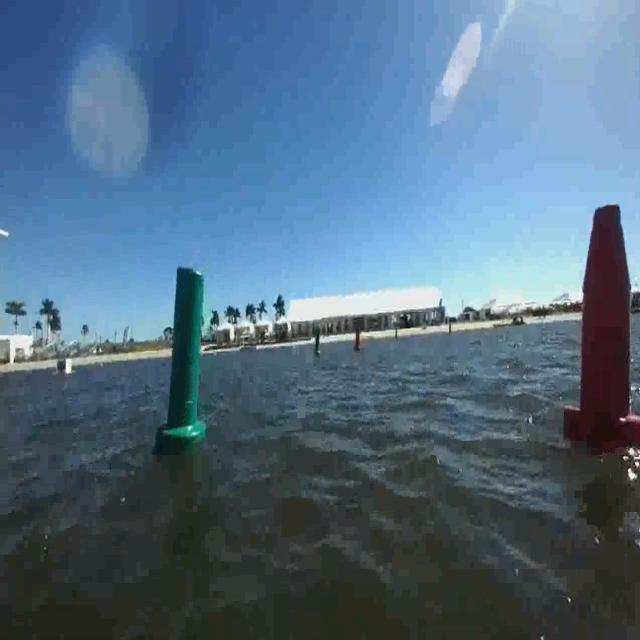green-column-buoy: (163, 261, 210, 443), (313, 326, 323, 357)
red-column-buoy: (561, 201, 638, 456), (353, 324, 364, 354)
